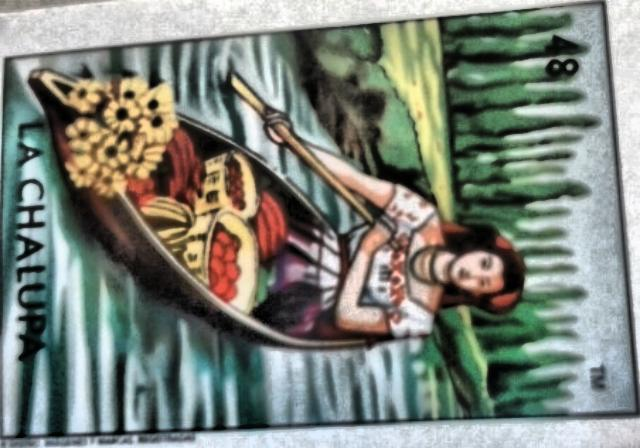La Chalupa: (2, 5, 636, 435)
